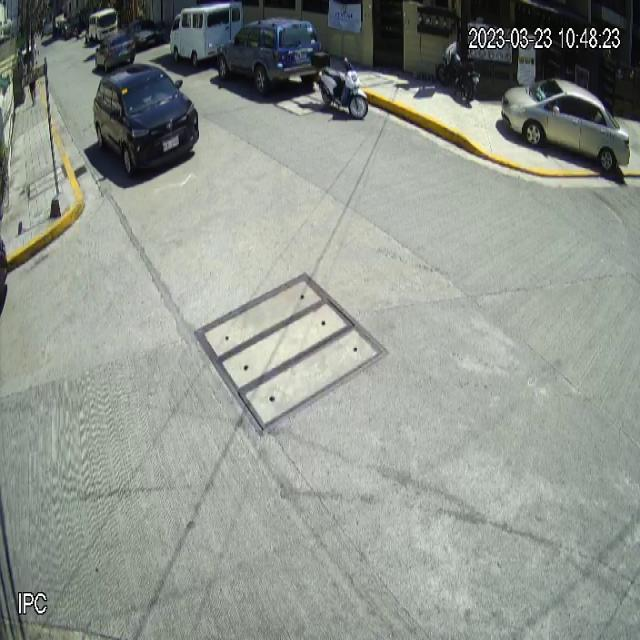Car: (500, 78, 630, 174), (92, 62, 199, 177), (218, 17, 324, 99)
Motorcycle: (312, 48, 369, 120)
Van: (170, 1, 245, 67)
